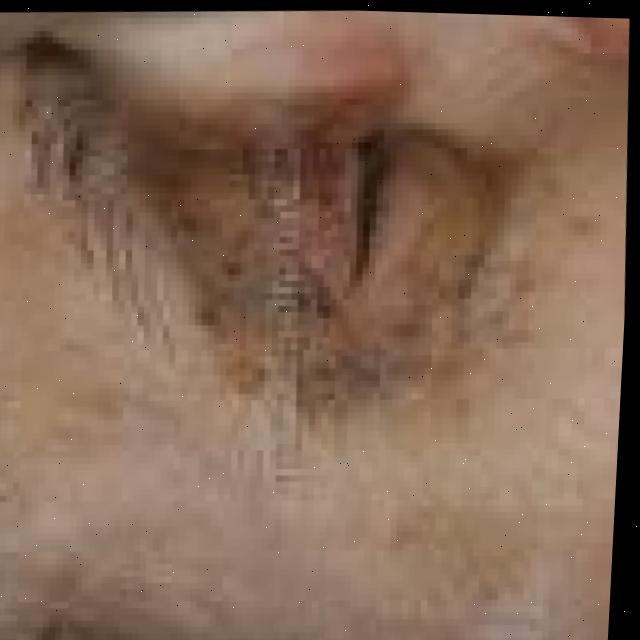Melasma: (167, 104, 488, 409)
